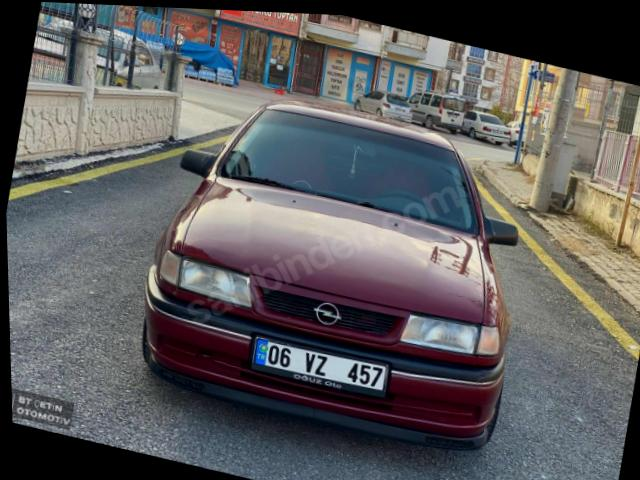plaka: (252, 337, 387, 396)
